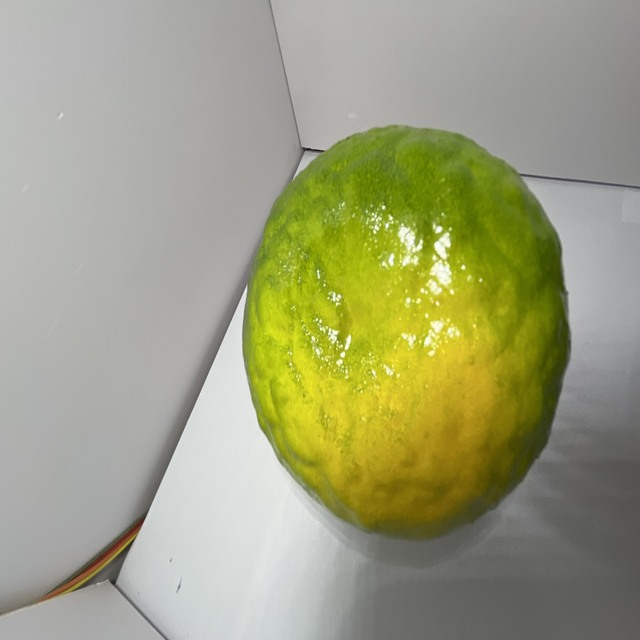Cam xanh: (239, 122, 572, 544)
